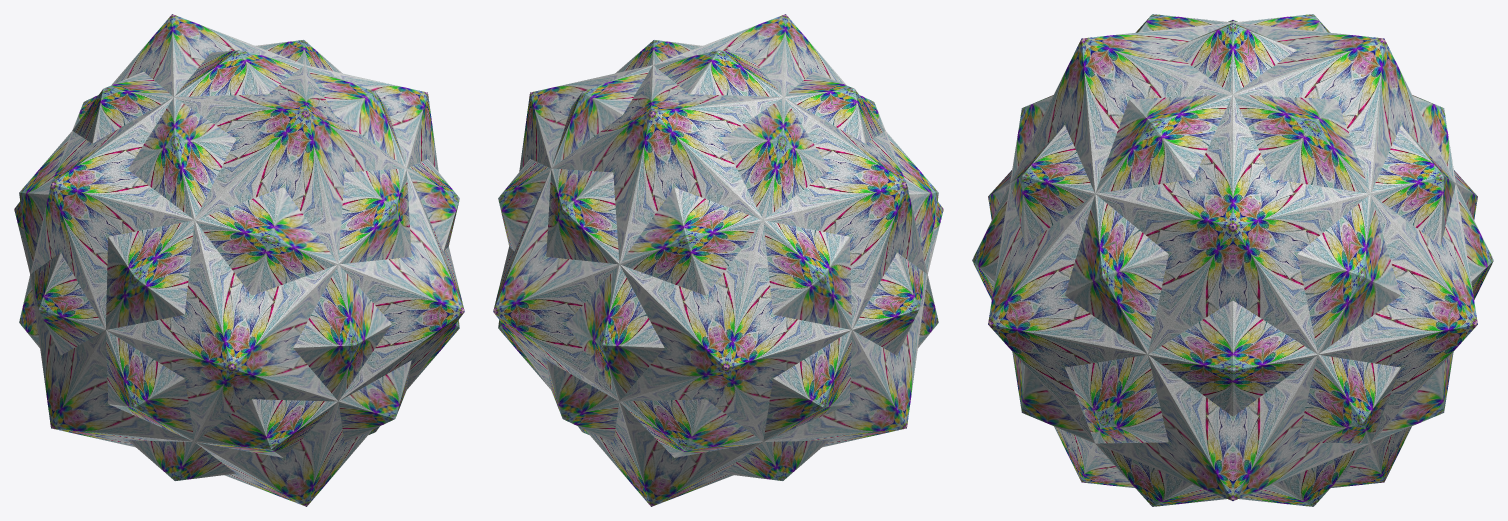
File: MedialDeltoidalHexecontahedron3.obj
3 renders of one model, left to right at view 1: azimuth 30°, elevation 25°; view 2: azimuth 150°, elevation 25°; view 3: azimuth 270°, elevation 25°, orthographic. The views are drawn at different scales.
Size of the model in its own units: 2.68 by 2.68 by 2.68.
1 material, 1 textured.
